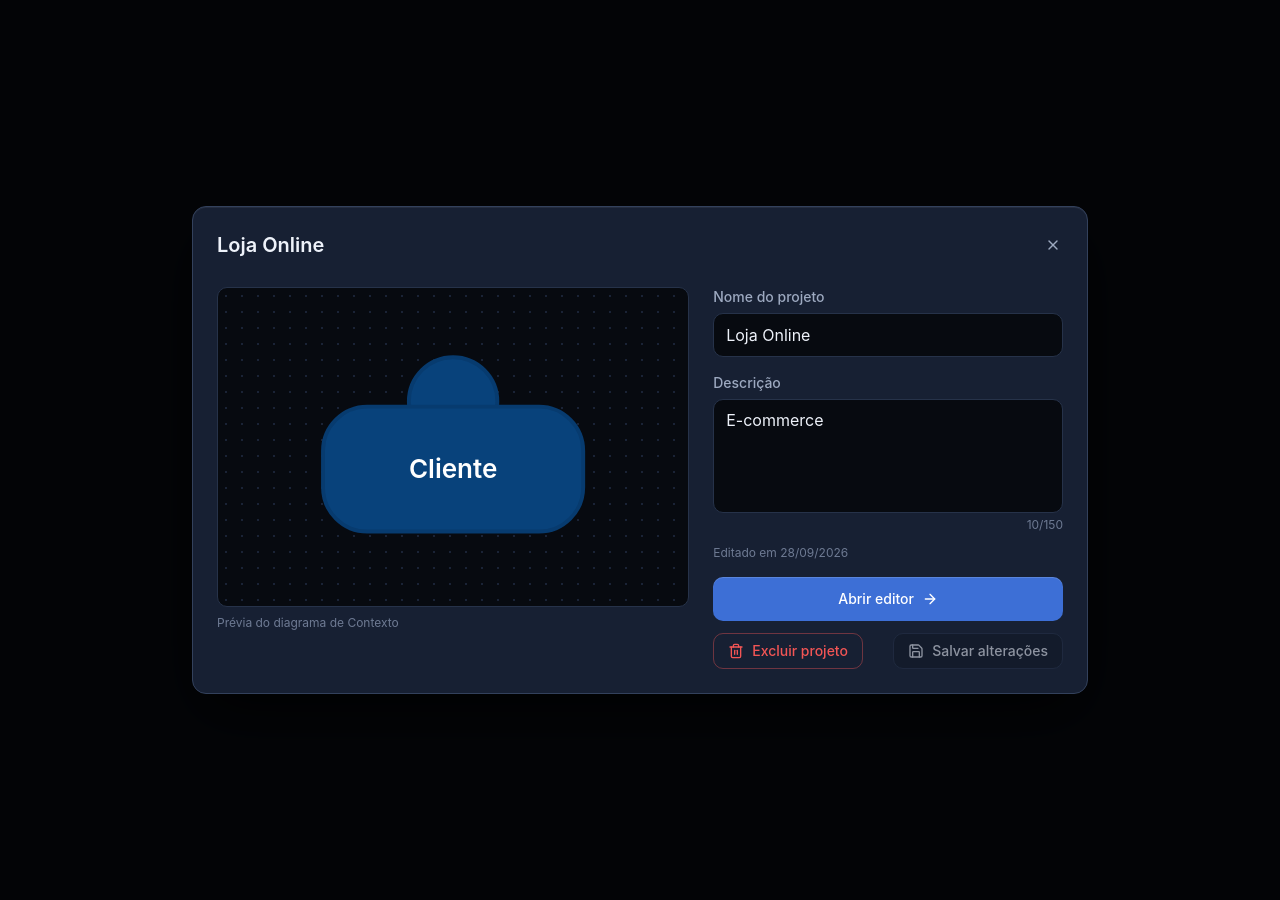
Test case: ProjectDetailsModal › deve mostrar o erro da API ao salvar e permitir tentar de novo
The image size is (1280, 900).
Type "!" into the field labelled "Nome do projeto" at (888, 335), box [713,313,1063,357]
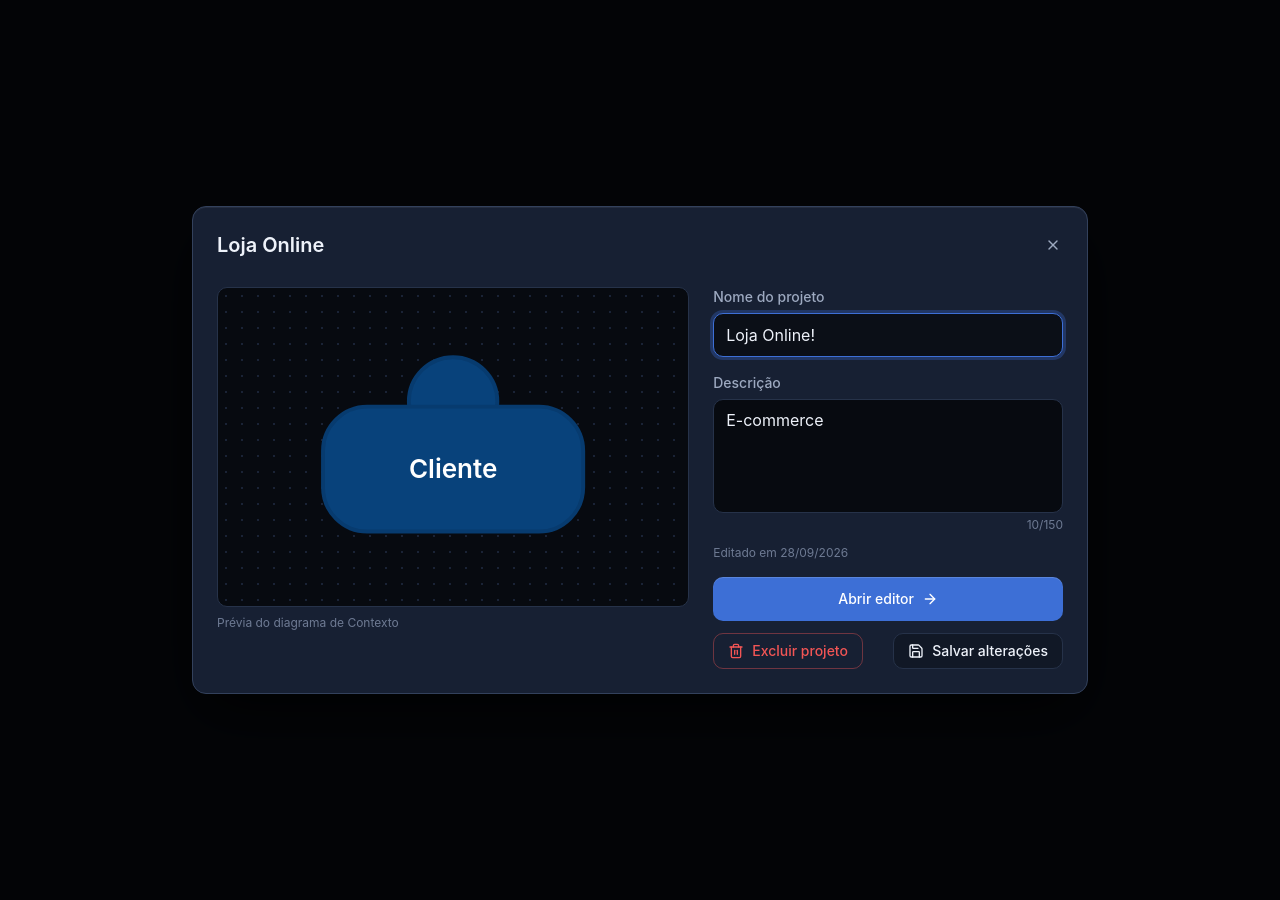
Click the button "Salvar alterações" at (978, 651), box [893,633,1063,669]
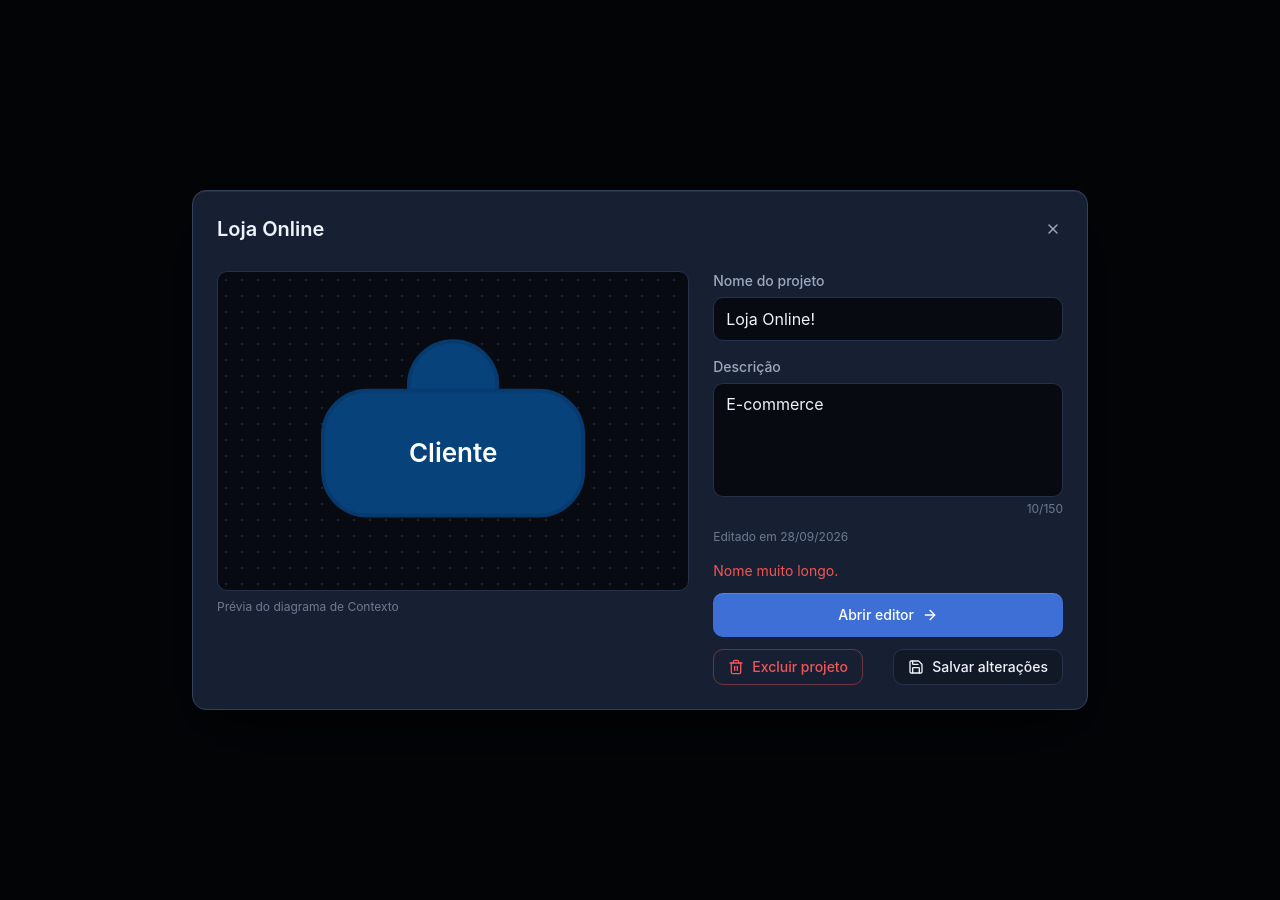
Result: the button "Salvar alterações" is enabled at [893,649,1063,685]
Result: the message reads "Nome muito longo." at [713,562,838,579]
